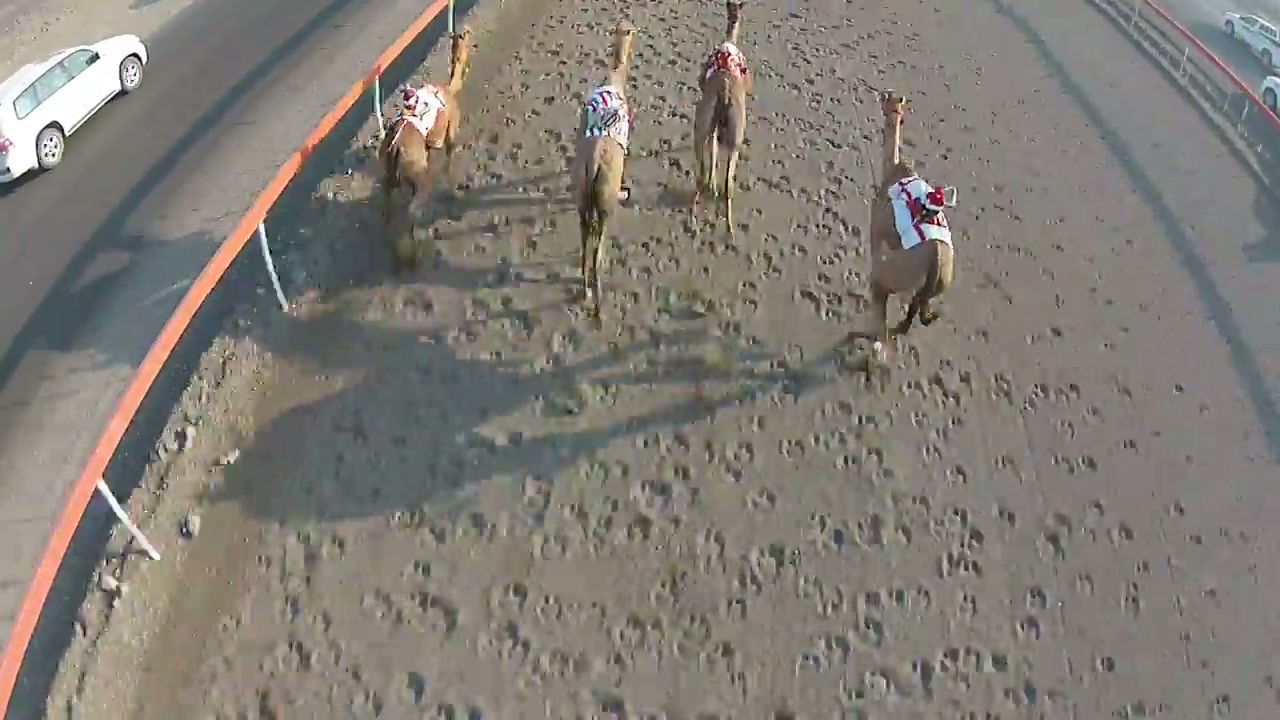animal_foot_print: (52, 0, 1279, 719)
